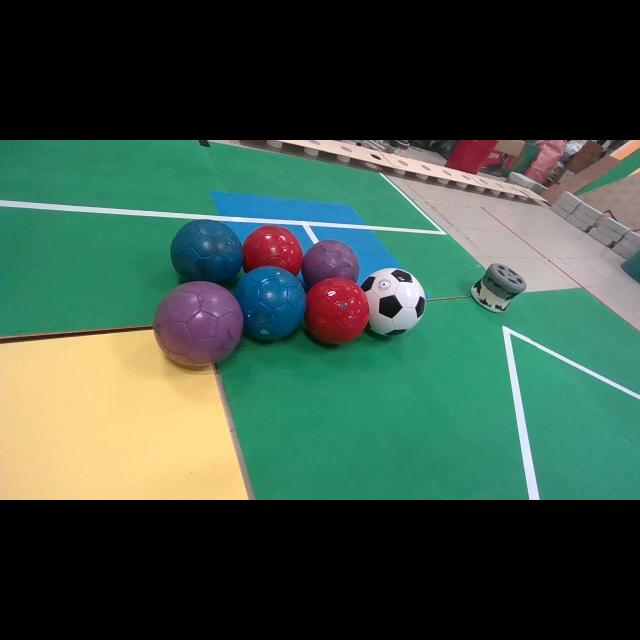B: (234, 266, 306, 339), (170, 220, 242, 283)
P: (152, 281, 244, 366), (301, 240, 360, 288)
R: (305, 278, 369, 344), (242, 225, 304, 275)
